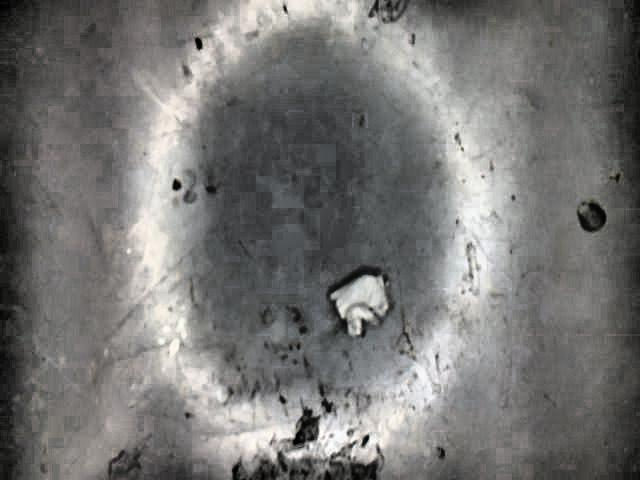Paper: (326, 271, 392, 339)
